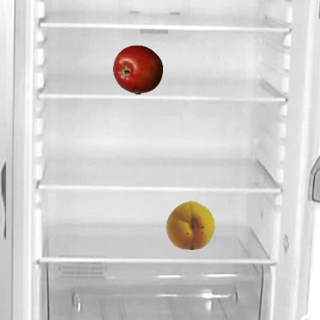Apple Braeburn: (112, 44, 162, 94)
Peach 2: (165, 199, 215, 249)
